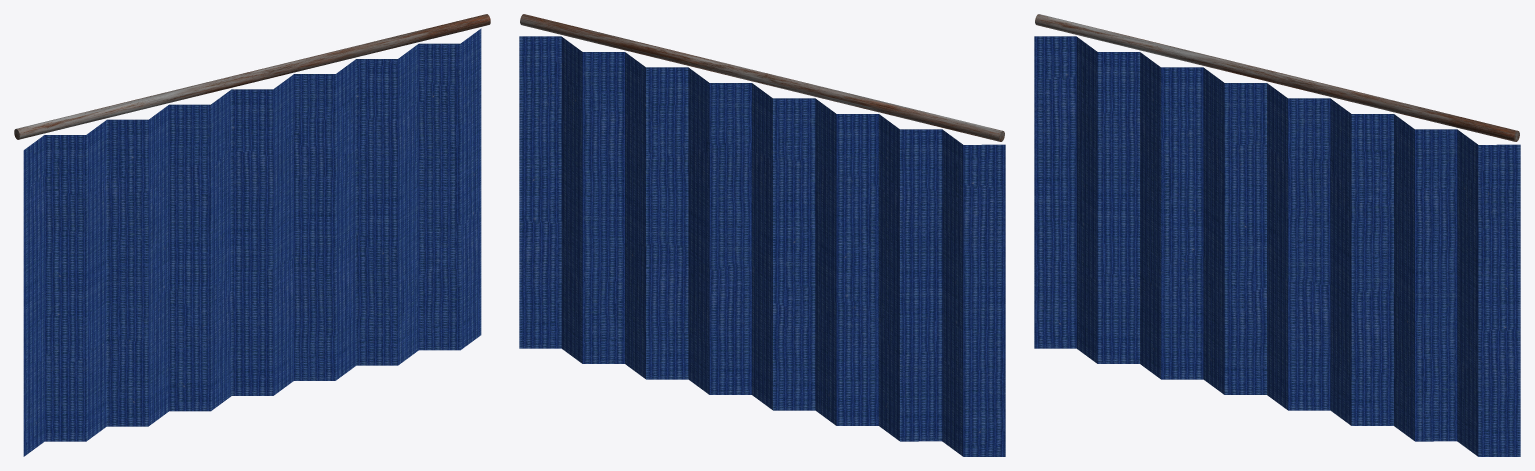
The model's file is curtain.glb.
3 views of the same model, side by side, from view 1: azimuth 30°, elevation 25°; view 2: azimuth 150°, elevation 25°; view 3: azimuth 330°, elevation 25° (orthographic).
Parts seen in each view (by area): view 1: Plane, Cylinder; view 2: Plane, Cylinder; view 3: Plane, Cylinder.
Part boxes in pixels (x1,y1,x2,y2): Plane: [23, 28, 481, 456]; Cylinder: [14, 14, 490, 139]; Plane: [519, 36, 1005, 456]; Cylinder: [520, 14, 1004, 141]; Plane: [1034, 36, 1520, 456]; Cylinder: [1035, 14, 1519, 141].
Size of the model in its own units: 9.64 by 6.34 by 0.3701.
Materials: 2 (2 with a texture image).
